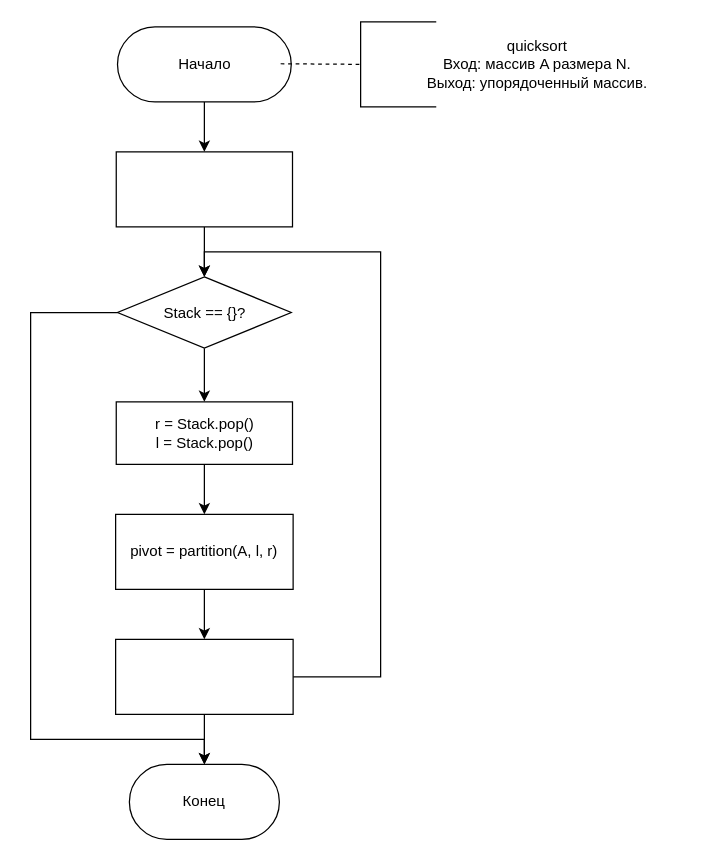
This 715x861 diagram has some shape labels left out. The shapes that lost their labels are listed below. From the top down, each one's centre as x and y in pixels, then its label:
(x=203, y=189): Stack := {0, N - 1}
(x=203, y=676): Stack.push(l, pivot - 1) Stack.push(pivot + 1, r)
